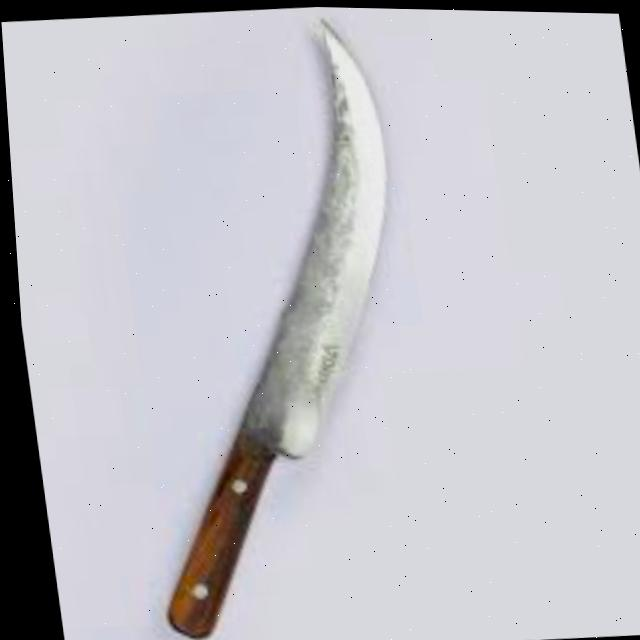knife: (84, 6, 446, 640)
